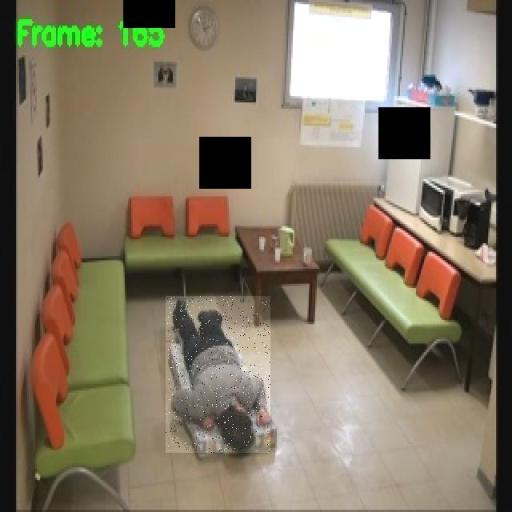Fall: (166, 297, 271, 454)
